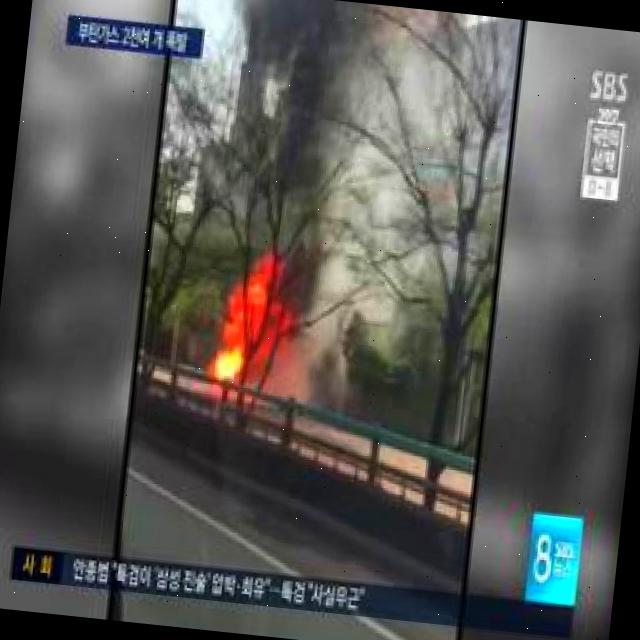fire: (210, 271, 298, 385)
